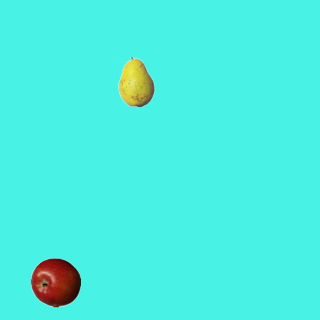Apple Braeburn: (30, 257, 80, 307)
Pear Monster: (111, 56, 161, 106)
